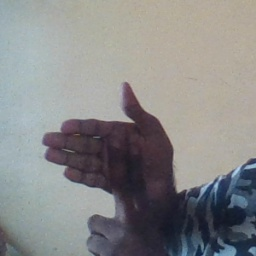N: (38, 77, 184, 255)
